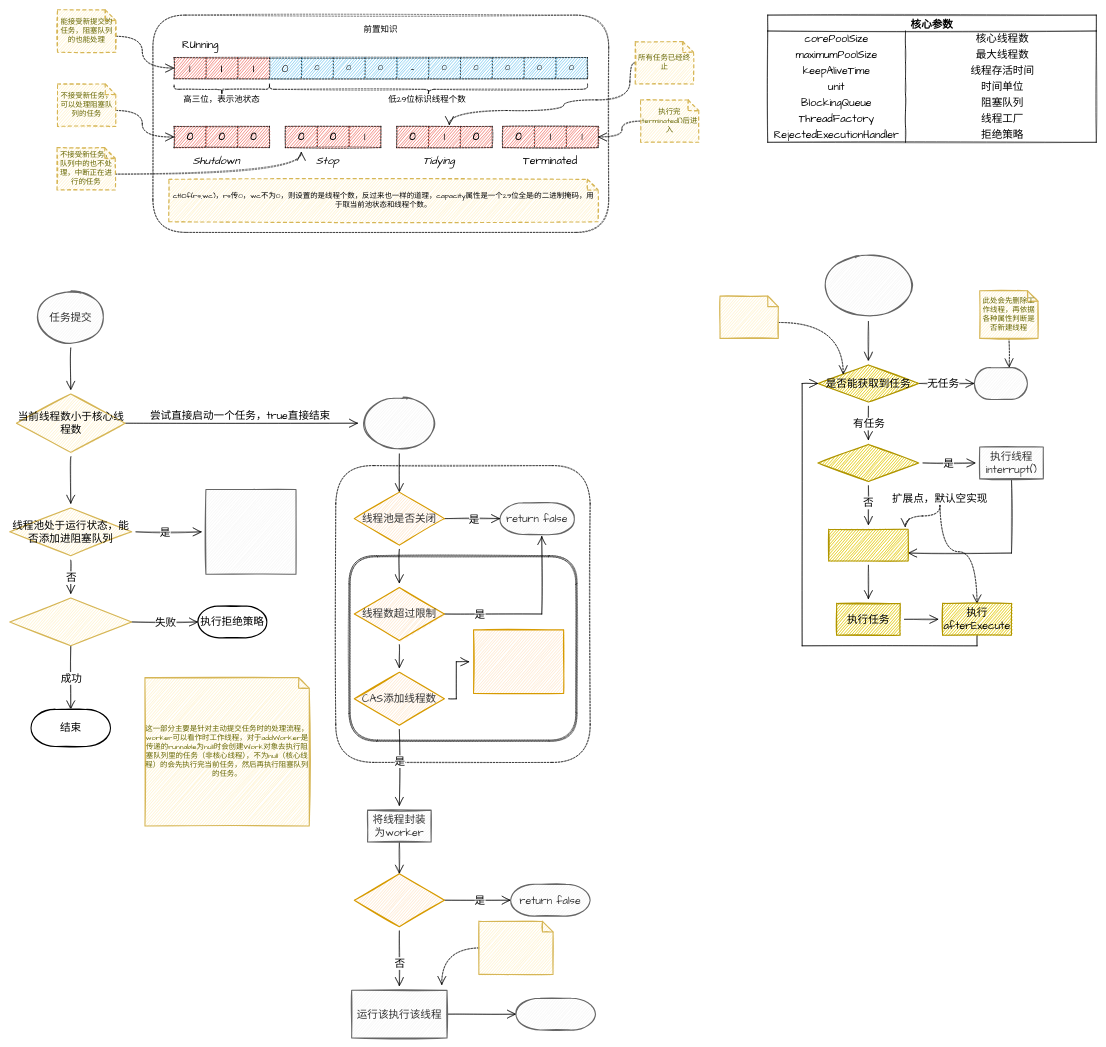
Some shapes in this 1106 by 1047 pixel diagram are drawn without their labels. Each missing label, with the centre of its shape:
"addWorker" belongs at (399,423).
"return true" belongs at (555,1013).
"runWork" belongs at (868,285).
"再次尝试执行addworker" belongs at (70,621).
"如果线程池非运行状态，将会删除队列任务，执行拒绝策略，否则线程数等于0将执行addWrok" belongs at (250,532).
"当线程池状态发生改变时重新回到外框大循环，否则小循环CAS改变ctl值" belongs at (518,661).
"执行beforeExecute" belongs at (868,544).
"此处也会从阻塞队列中获取，优先Work中定义的" belongs at (749,317).
"此处还存在一些判断，未抛出异常且能添加到works中都是返回true" belongs at (515,948).
"线程是否为null" belongs at (399,900).
"线程池stop或者执行线程中断" belongs at (868,463).
"销毁线程" belongs at (1001,383).
